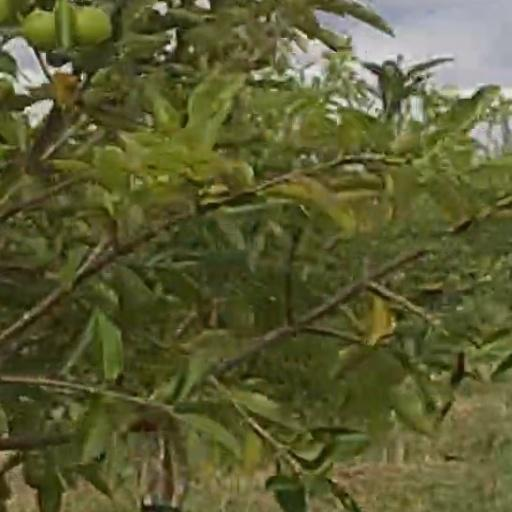acerola: (72, 7, 111, 44), (24, 10, 55, 45)
